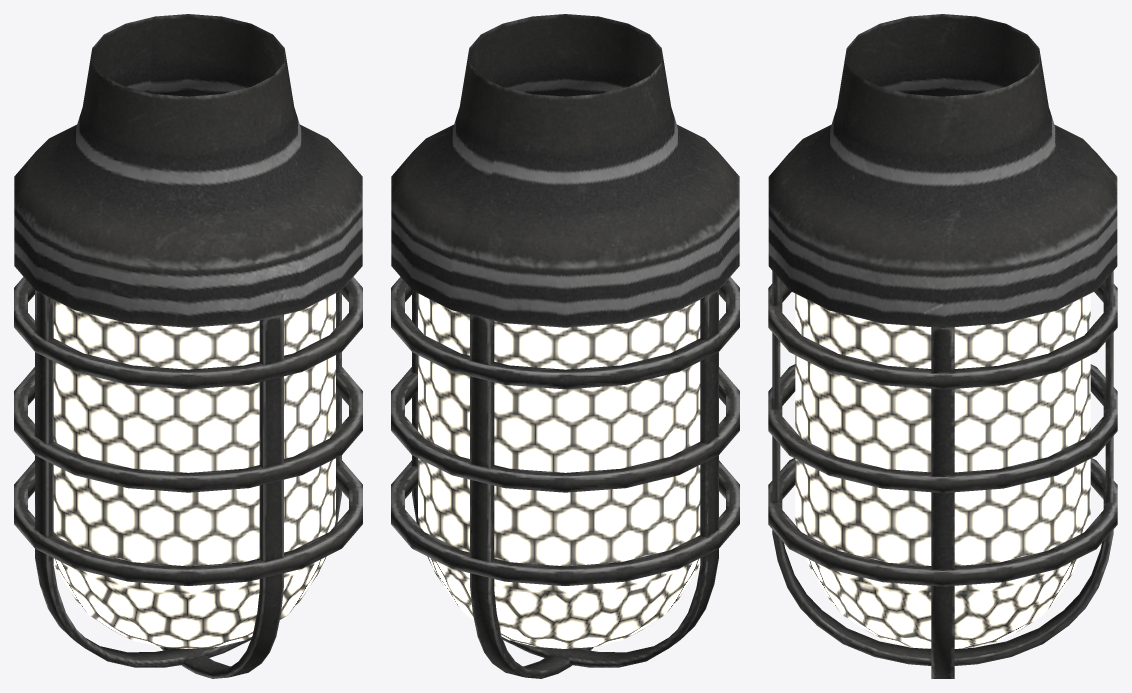
The model's file is SM_Light_03_B.fbx.
3 views of the same model, side by side, from view 1: azimuth 30°, elevation 25°; view 2: azimuth 150°, elevation 25°; view 3: azimuth 270°, elevation 25° (orthographic).
Visible parts, largest first — view 1: SM_Light_03_B_LOD0; view 2: SM_Light_03_B_LOD0; view 3: SM_Light_03_B_LOD0.
Part boxes in pixels (x1,y1,x2,y2): SM_Light_03_B_LOD0: (14,14,362,678); SM_Light_03_B_LOD0: (391,14,739,678); SM_Light_03_B_LOD0: (768,14,1117,678).
Size of the model in its own units: 21.47 by 21.14 by 40.47.
Materials: 1 (1 with a texture image).
